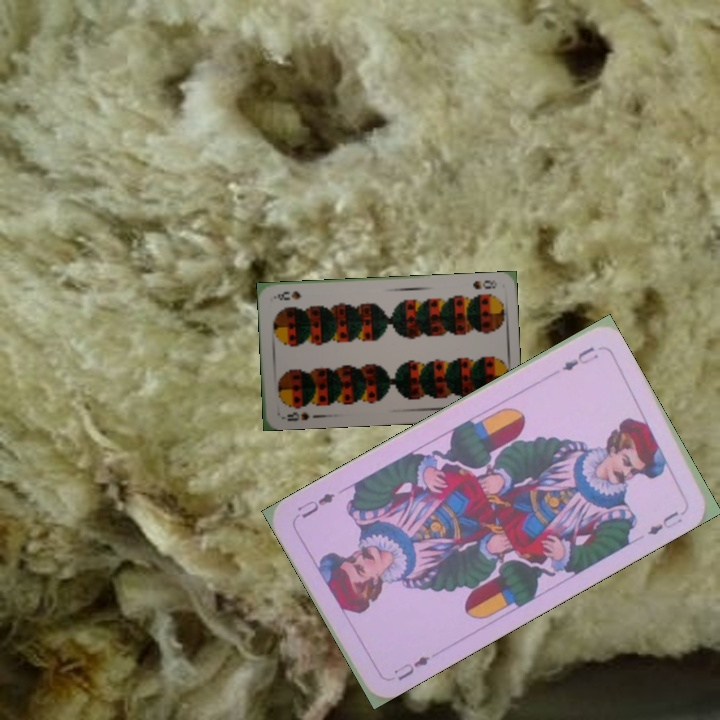EU: (389, 651, 432, 684), (557, 342, 601, 374)
S8: (277, 408, 312, 424), (469, 275, 499, 292)
